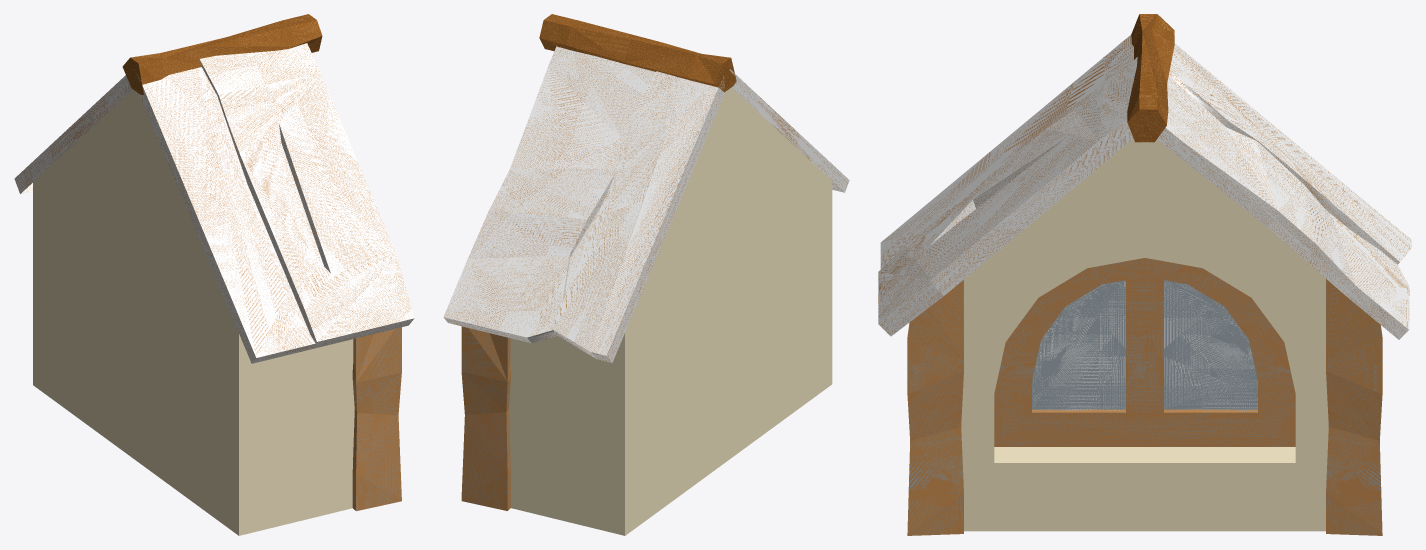
Rendered from Window.fbx.
3 renders of one model, left to right at view 1: azimuth 30°, elevation 25°; view 2: azimuth 150°, elevation 25°; view 3: azimuth 270°, elevation 25°, orthographic. The views are drawn at different scales.
Visible parts, largest first — view 1: G_67_1, G_36_1, Stolb3_1, Konek3_1; view 2: G_67_1, G_36_1, Stolb3_2, Konek3_1; view 3: G_67_1, G_36_1, Window1, Stolb3_1, Stolb3_2, Konek3_1.
Part boxes in pixels (bbox=[...]): G_67_1: bbox=[33, 89, 354, 535]; G_36_1: bbox=[14, 43, 414, 363]; Stolb3_1: bbox=[352, 327, 401, 511]; Konek3_1: bbox=[122, 14, 322, 94]; G_67_1: bbox=[509, 87, 832, 535]; G_36_1: bbox=[443, 46, 849, 362]; Stolb3_2: bbox=[461, 326, 510, 510]; Konek3_1: bbox=[539, 14, 736, 92]; G_67_1: bbox=[961, 139, 1328, 531]; G_36_1: bbox=[878, 34, 1411, 339]; Window1: bbox=[994, 258, 1295, 446]; Stolb3_1: bbox=[907, 280, 963, 535]; Stolb3_2: bbox=[1326, 279, 1382, 535]; Konek3_1: bbox=[1127, 14, 1174, 142].
Bounding box in the file's own units: 600 × 1280 × 1415.
